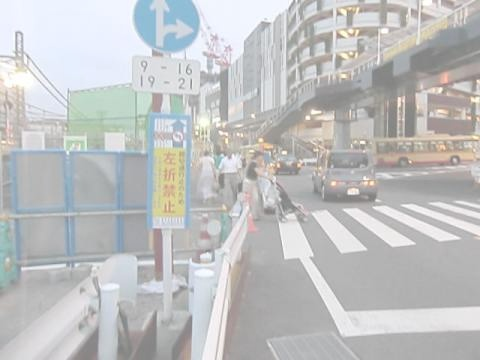Direction_sign: (133, 1, 206, 68)
